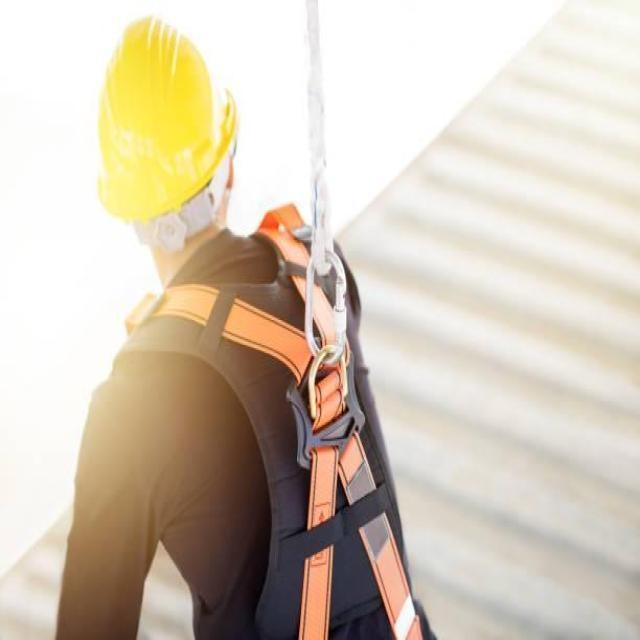Arnes_seguridad: (110, 221, 429, 640)
